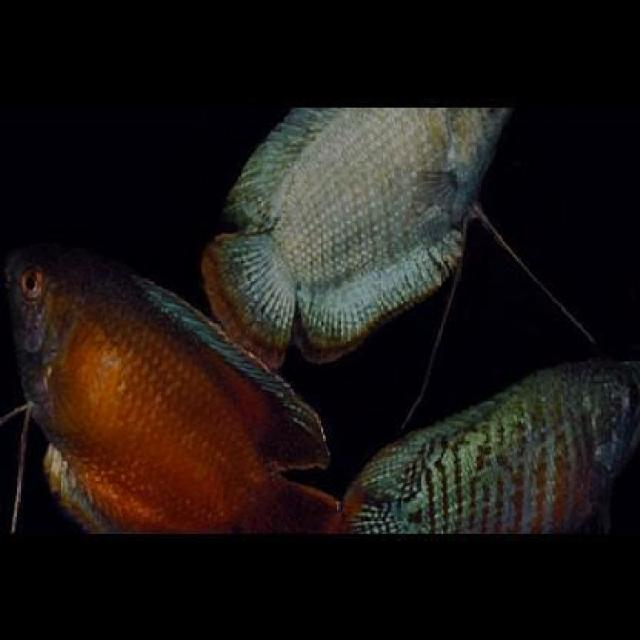Gourami: (0, 237, 345, 532)
